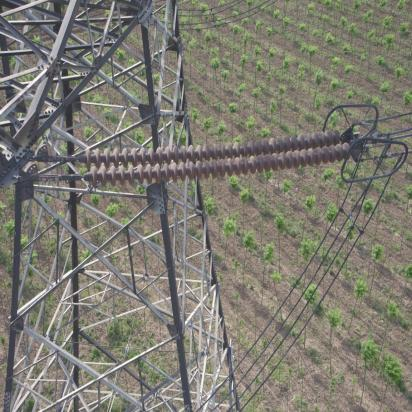insulator: (57, 125, 356, 189)
